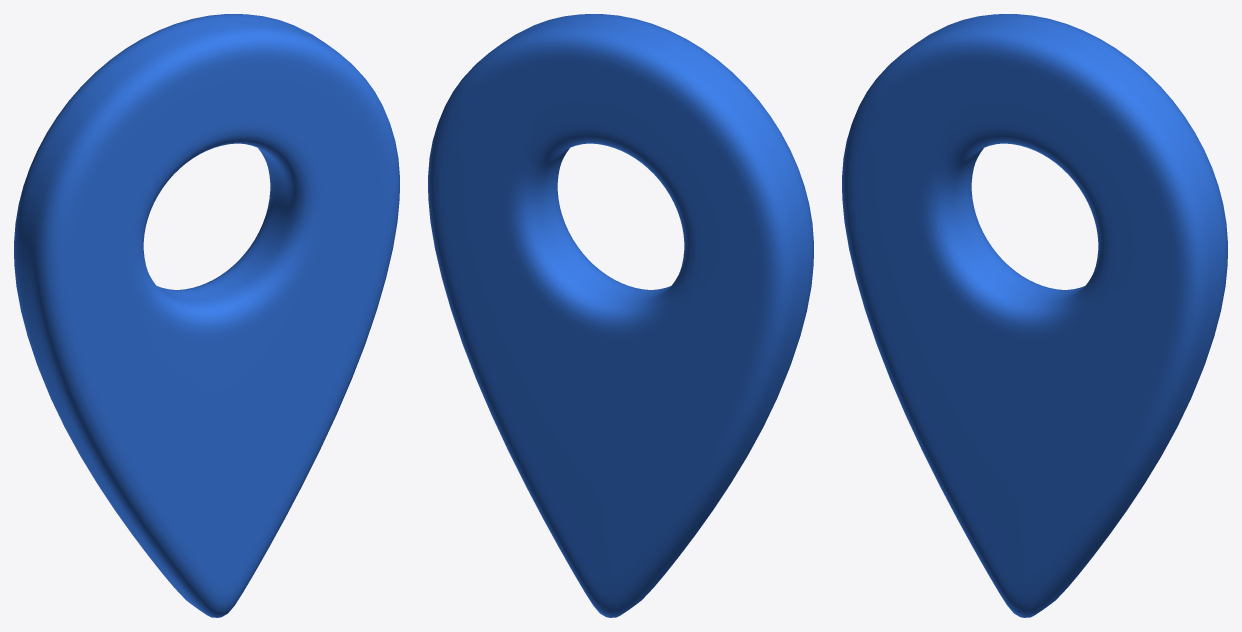
Rendered from LocationIcon.fbx.
3 views of the same model, side by side, from view 1: azimuth 30°, elevation 25°; view 2: azimuth 150°, elevation 25°; view 3: azimuth 330°, elevation 25° (orthographic).
Parts seen in each view (by area): view 1: Cylinder.004; view 2: Cylinder.004; view 3: Cylinder.004.
Boxes of the visible parts, bbox=[...] form: Cylinder.004: bbox=[14, 14, 399, 617]; Cylinder.004: bbox=[428, 14, 813, 617]; Cylinder.004: bbox=[842, 14, 1227, 617].
Bounding box in the file's own units: 294 × 452 × 53.68.
